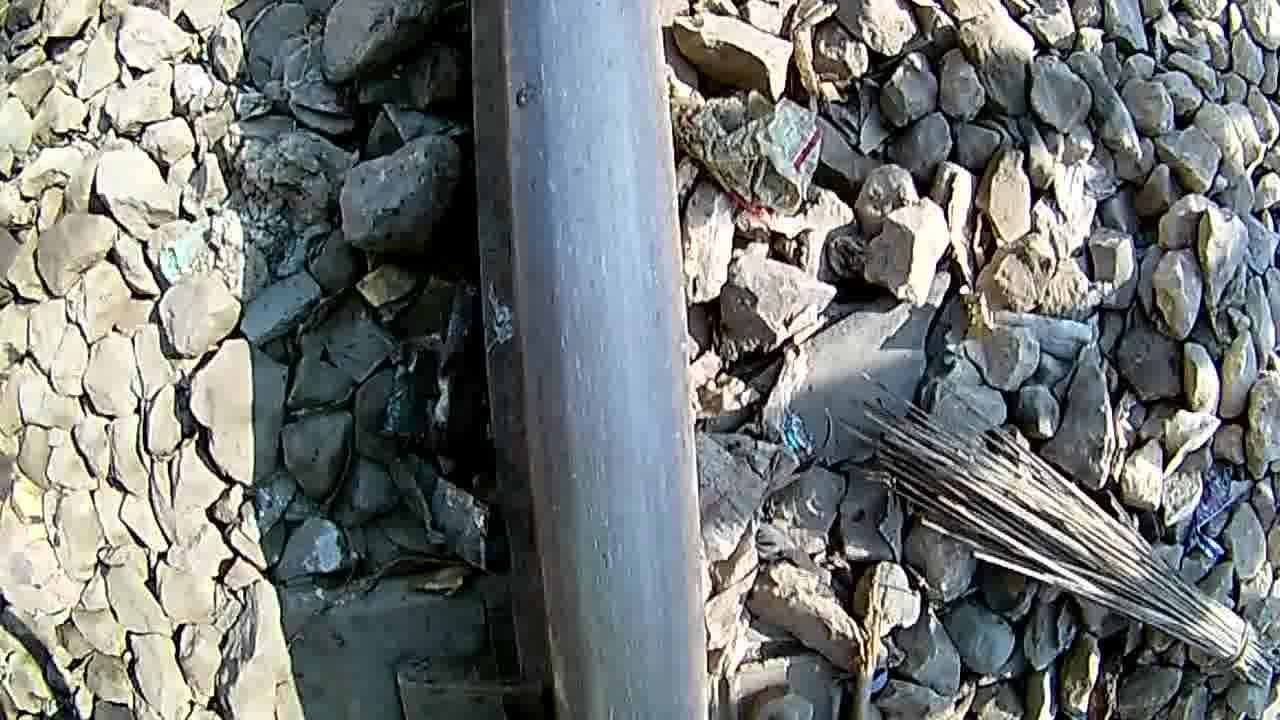crack: (502, 0, 688, 720)
